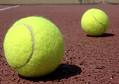tennis ball: (2, 15, 65, 79), (80, 7, 109, 35)
